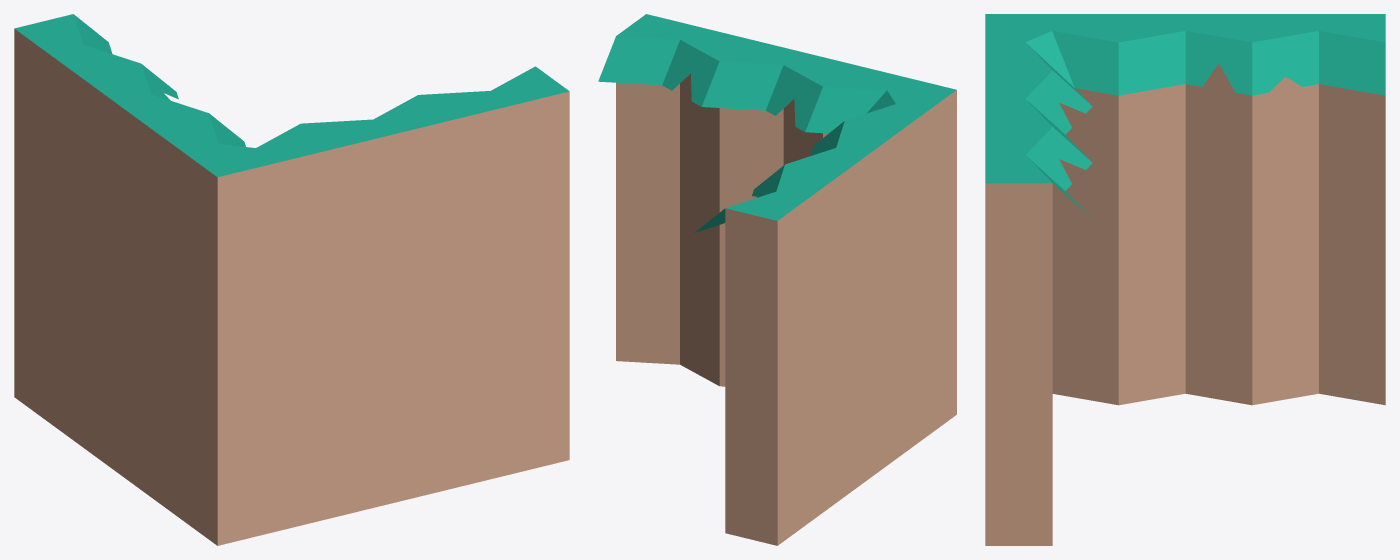
The model's file is cliff_cornerInnerTop_rock.glb.
The picture shows the model from 3 angles, left to right: view 1: azimuth 30°, elevation 25°; view 2: azimuth 150°, elevation 25°; view 3: azimuth 270°, elevation 25°; orthographic projection. The views are drawn at different scales.
Parts seen in each view (by area): view 1: cliff_cornerInnerTop_rock; view 2: cliff_cornerInnerTop_rock; view 3: cliff_cornerInnerTop_rock.
Part boxes in pixels (<box>): cliff_cornerInnerTop_rock: <box>14,14,569,545</box>; cliff_cornerInnerTop_rock: <box>598,14,956,545</box>; cliff_cornerInnerTop_rock: <box>985,14,1385,545</box>.
Size of the model in its own units: 1 by 1 by 1.
